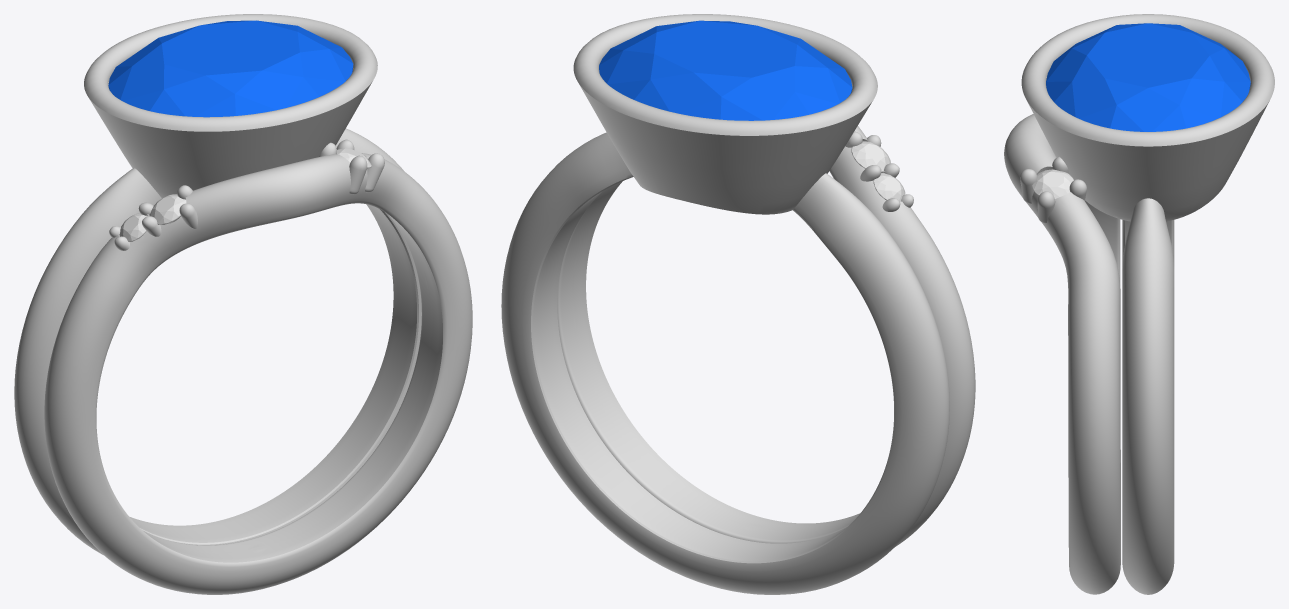
Rendered from KatrinaPTmatteWB_blender.glb.
3 views of the same model, side by side, from view 1: azimuth 30°, elevation 25°; view 2: azimuth 150°, elevation 25°; view 3: azimuth 270°, elevation 25° (orthographic). The views are drawn at different scales.
Parts seen in each view (by area): view 1: Katrina PT for 3d model, Katrina sapph for 3d model, Katrina dia for 3d model; view 2: Katrina PT for 3d model, Katrina sapph for 3d model, Katrina dia for 3d model, Katrina dia for 3d model.001; view 3: Katrina PT for 3d model, Katrina sapph for 3d model, Katrina dia for 3d model.002.
Boxes of the visible parts, x1,y1,x2,y2 form: Katrina PT for 3d model: [14, 14, 472, 594]; Katrina sapph for 3d model: [108, 20, 353, 117]; Katrina dia for 3d model: [149, 194, 186, 224]; Katrina PT for 3d model: [501, 14, 975, 594]; Katrina sapph for 3d model: [599, 20, 852, 120]; Katrina dia for 3d model: [851, 141, 890, 170]; Katrina dia for 3d model.001: [873, 173, 905, 201]; Katrina PT for 3d model: [1004, 14, 1274, 594]; Katrina sapph for 3d model: [1046, 23, 1250, 131]; Katrina dia for 3d model.002: [1032, 169, 1073, 198].
Bounding box in the file's own units: 20.81 × 24.13 × 11.48.
